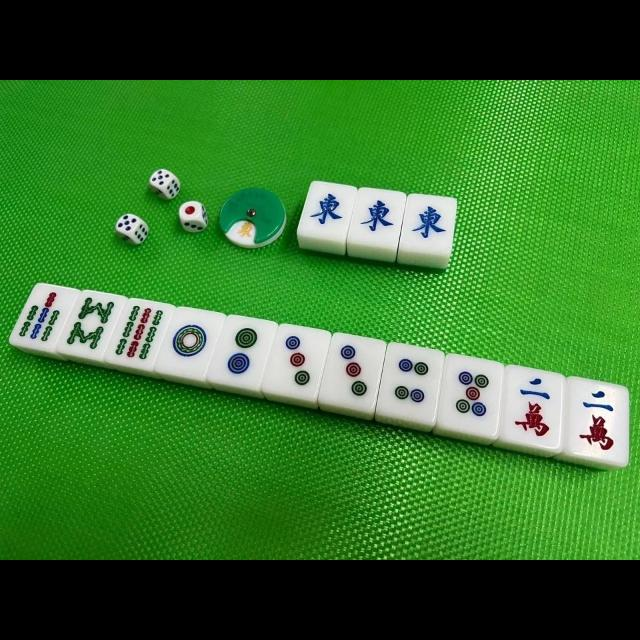b7: (14, 287, 64, 351)
b8: (65, 292, 117, 360)
b9: (114, 299, 170, 365)
c2: (566, 378, 628, 462), (504, 366, 564, 444)
d1: (165, 308, 219, 376)
d2: (212, 316, 270, 384)
d3: (319, 334, 379, 410), (266, 324, 324, 396)
d4: (380, 344, 442, 420)
d5: (441, 354, 503, 432)
we: (351, 188, 402, 246), (300, 182, 352, 238), (401, 196, 453, 252)
